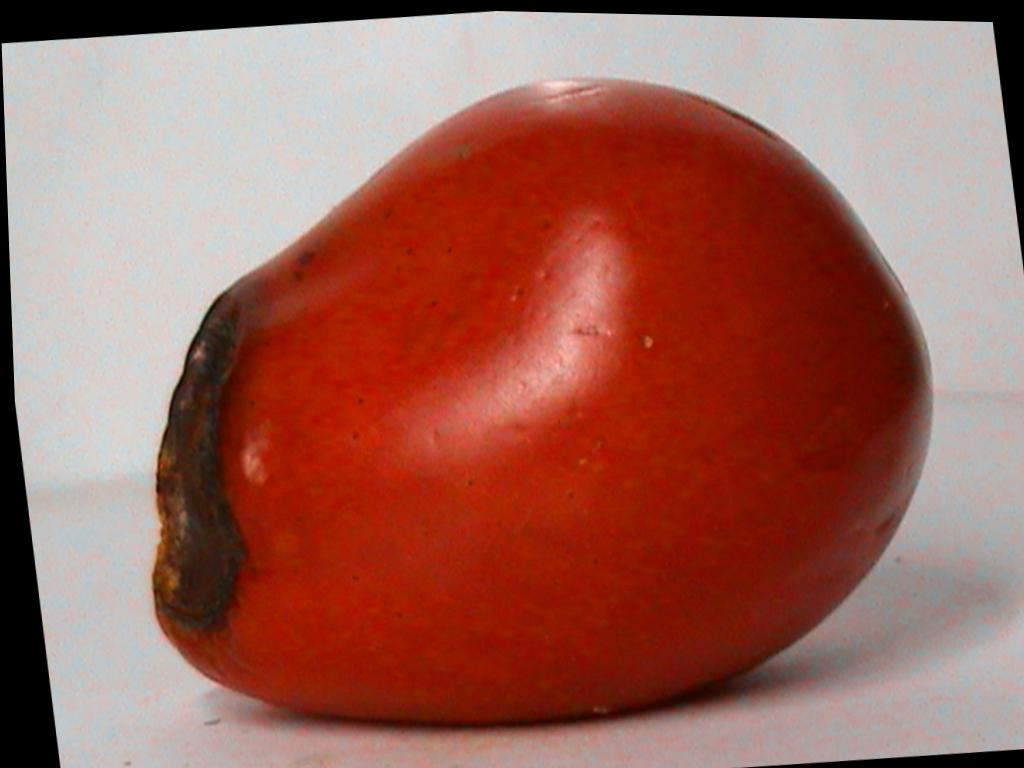rot_mold_decay: (153, 282, 246, 633)
tomato: (155, 81, 931, 721)
